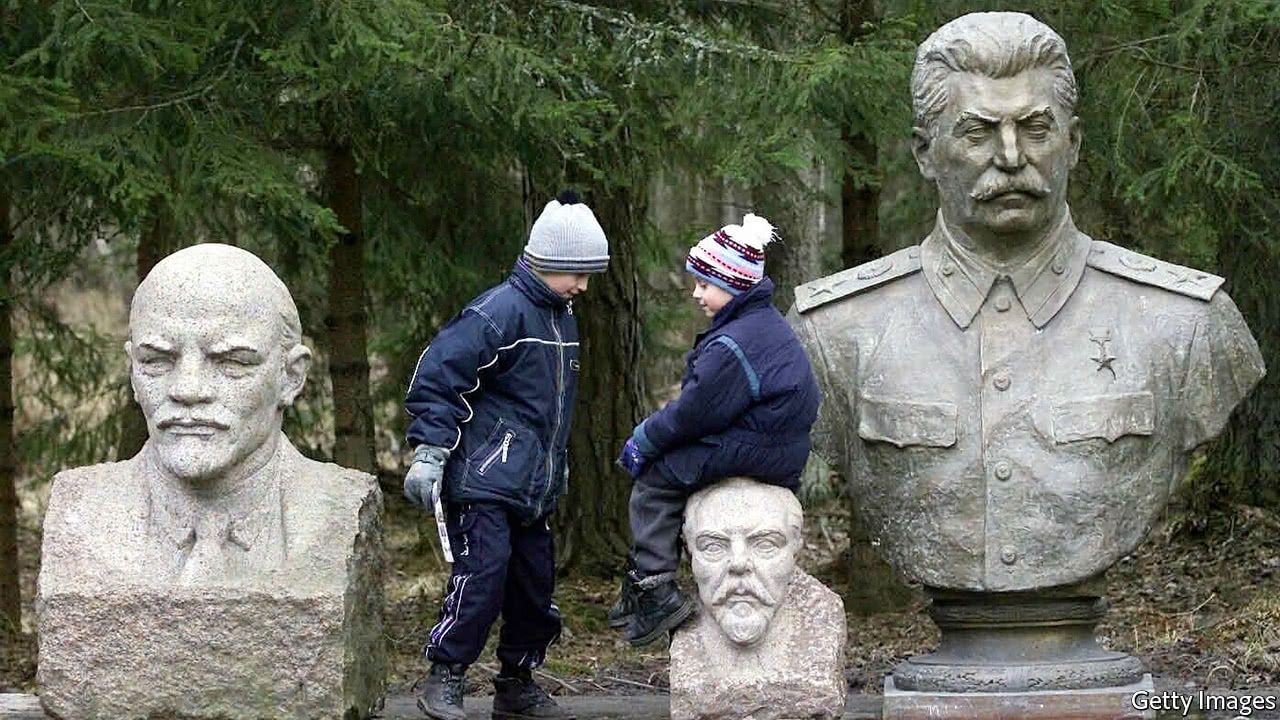person: (401, 195, 623, 720), (610, 206, 826, 652)
person-like: (770, 3, 1273, 615), (37, 222, 371, 689), (662, 473, 854, 720)
